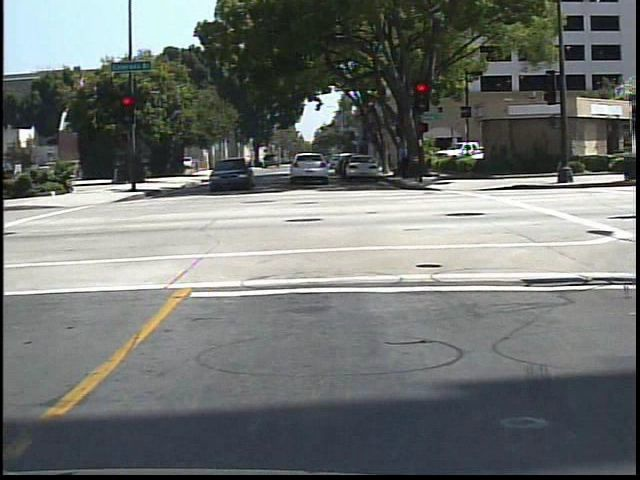person: (394, 140, 413, 183)
